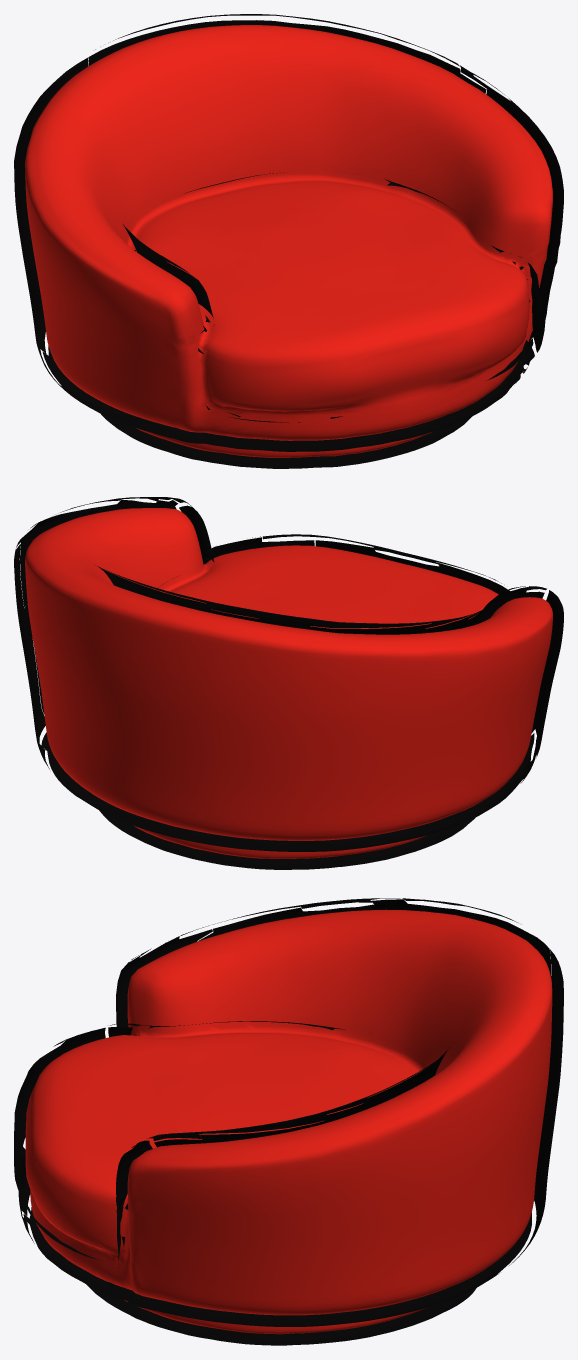
Rendered from furniture_4.glb.
The picture shows the model from 3 angles, top to bottom: view 1: azimuth 30°, elevation 25°; view 2: azimuth 150°, elevation 25°; view 3: azimuth 270°, elevation 25°; orthographic projection. The views are drawn at different scales.
Parts seen in each view (by area): view 1: Mesh_0.001; view 2: Mesh_0.001; view 3: Mesh_0.001.
Boxes of the visible parts, x1=… form: Mesh_0.001: x1=14, y1=14, x2=563, y2=468; Mesh_0.001: x1=14, y1=497, x2=563, y2=869; Mesh_0.001: x1=14, y1=898, x2=563, y2=1345.
Bounding box in the file's own units: 2.53 × 1.37 × 2.36.
